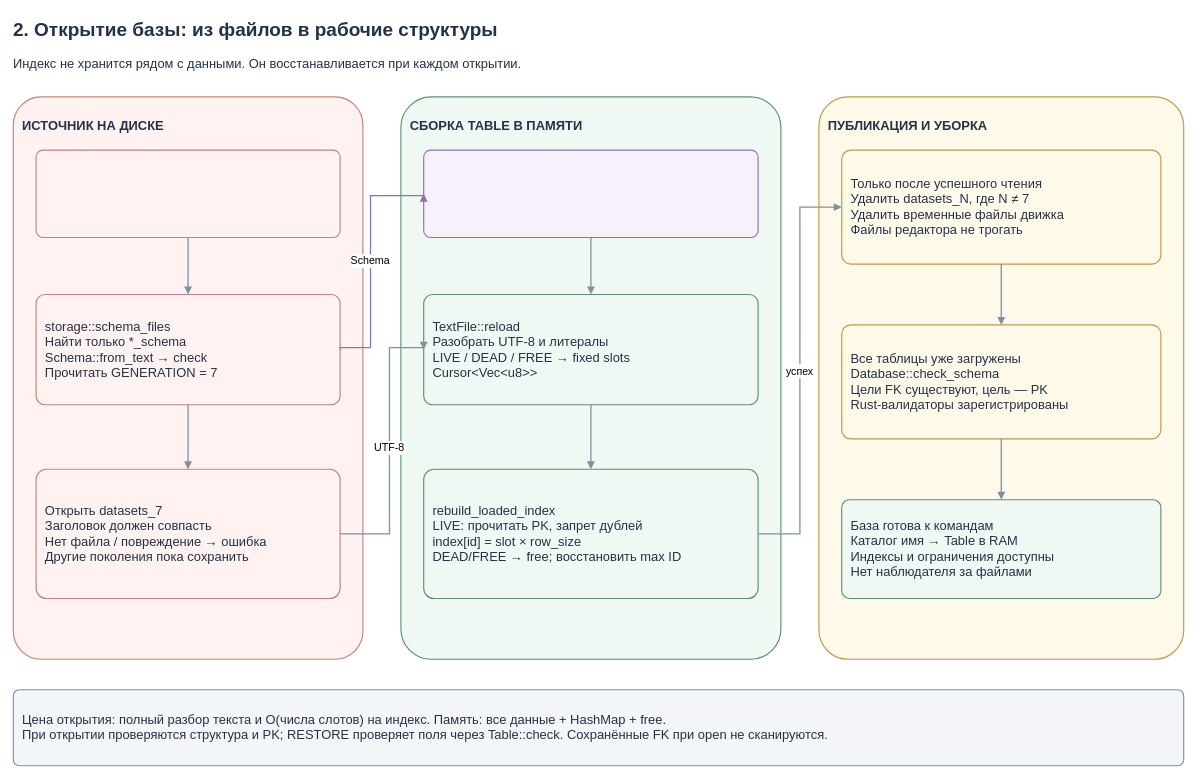
Image size: 1198x779. Some labels were removed from this diagram. Here are the shapes that lost their labels. From the top down, the centre of each, then its label:
the point at 187,193: Database::open(path) Создать / открыть каталог Взять эксклюзивную .lock
the point at 590,193: Layout::from_schema Проверить структуру один раз Посчитать row_size и offsets
